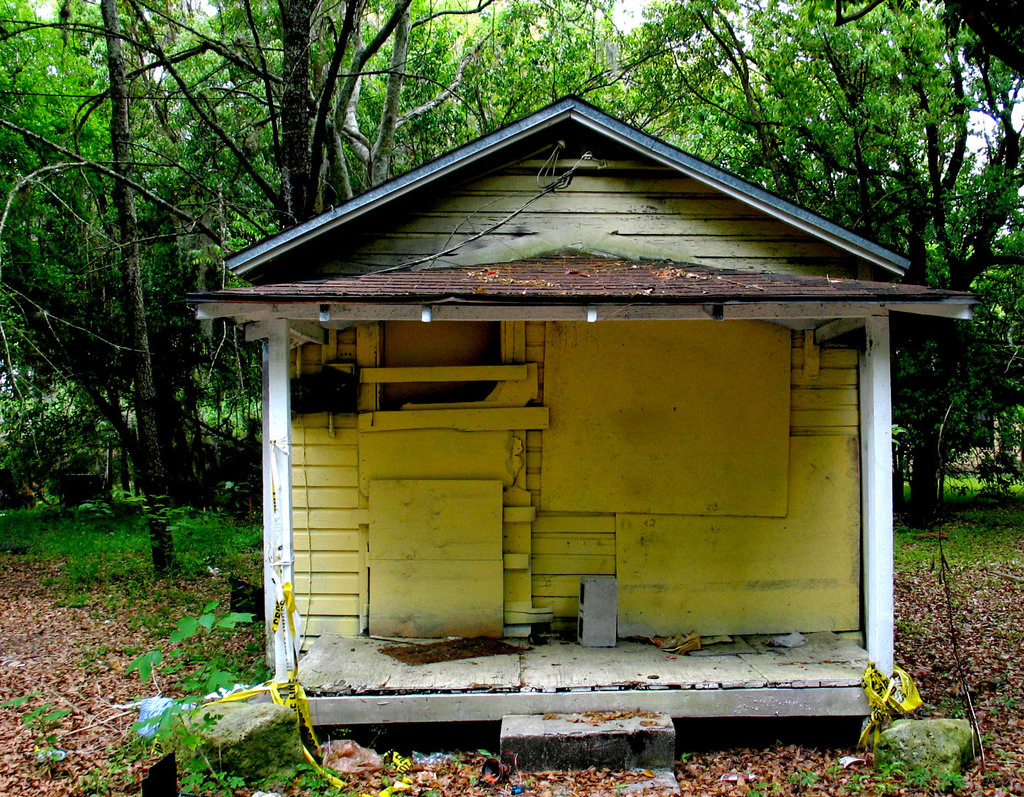Tree: (0, 0, 1024, 578)
